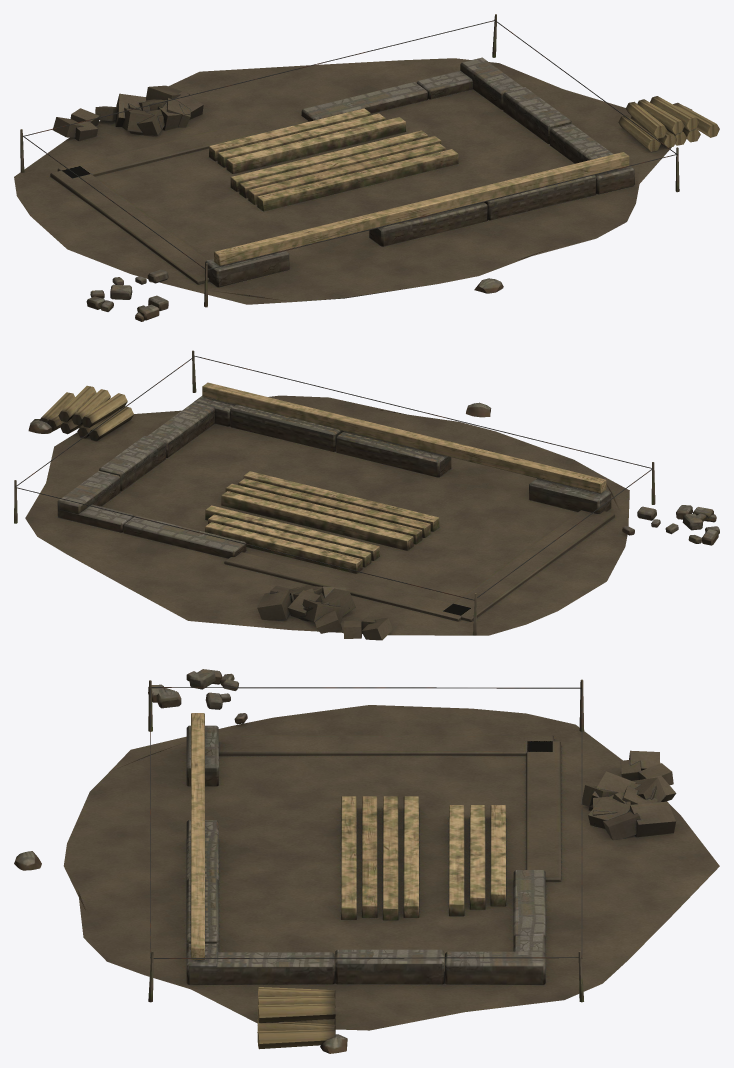
Rendered from house_b_build1.glb.
The picture shows the model from 3 angles, top to bottom: view 1: azimuth 30°, elevation 25°; view 2: azimuth 150°, elevation 25°; view 3: azimuth 270°, elevation 25°; orthographic projection. The views are drawn at different scales.
Visible parts, largest first — view 1: house_b_build1_LOD0; view 2: house_b_build1_LOD0; view 3: house_b_build1_LOD0.
Part boxes in pixels (x1,y1,x2,y2): house_b_build1_LOD0: (14, 14, 719, 321); house_b_build1_LOD0: (14, 350, 719, 640); house_b_build1_LOD0: (14, 669, 719, 1053).
Size of what is drawn, in the model's own units: 12.75 by 0.8008 by 10.15.
1 material, 1 textured.
